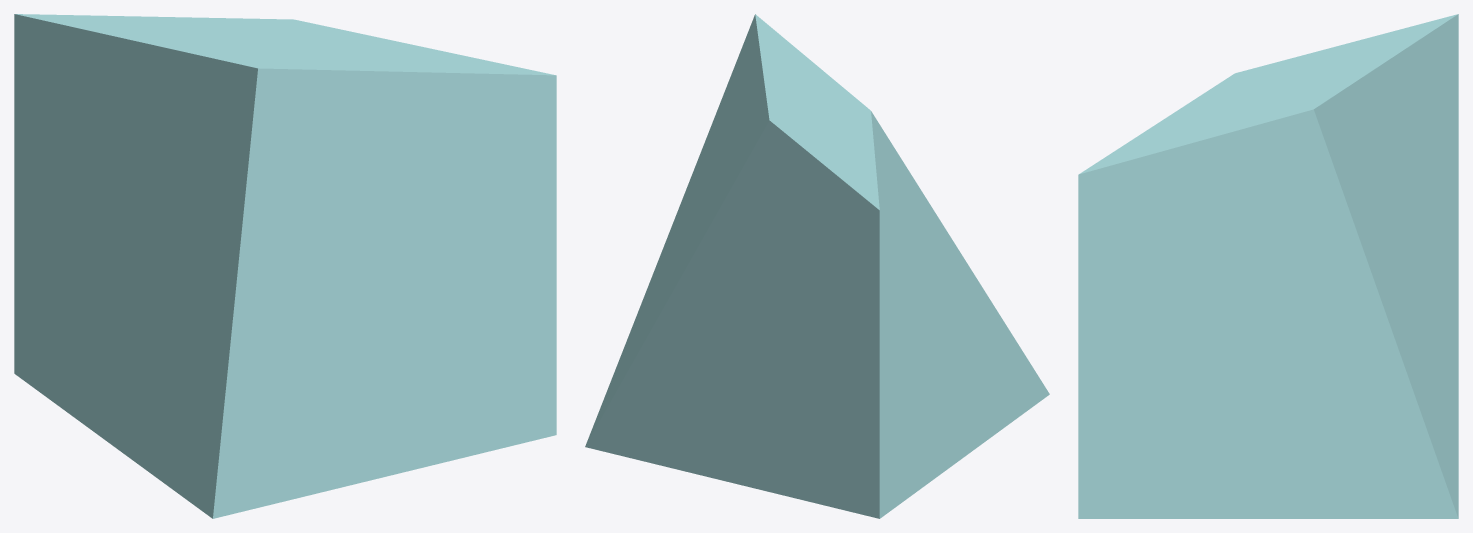
The model's file is forma.glb.
3 views of the same model, side by side, from view 1: azimuth 30°, elevation 25°; view 2: azimuth 150°, elevation 25°; view 3: azimuth 270°, elevation 25° (orthographic). The views are drawn at different scales.
Parts seen in each view (by area): view 1: Cube; view 2: Cube; view 3: Cube.
Part boxes in pixels (<box>): Cube: <box>14,14,556,518</box>; Cube: <box>585,14,1049,518</box>; Cube: <box>1078,14,1458,518</box>.
Size of the model in its own units: 2 by 2 by 2.
